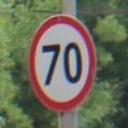speed_limit_70: (28, 15, 96, 111)
